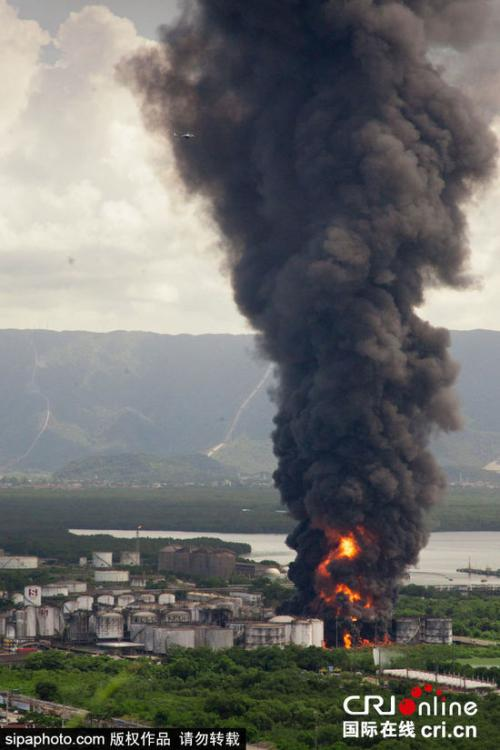smoke: (148, 1, 500, 599)
